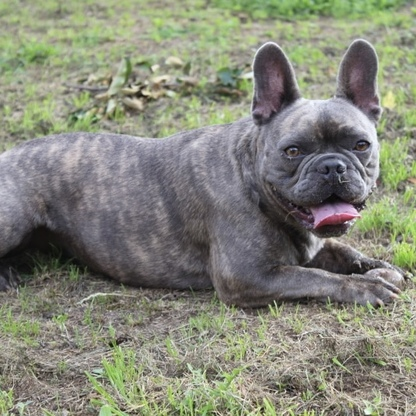bulldog: (4, 39, 412, 312)
